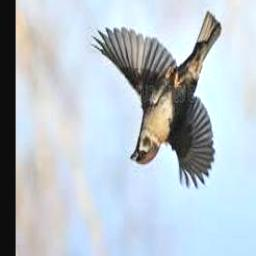Sparrow: (91, 11, 221, 191)
